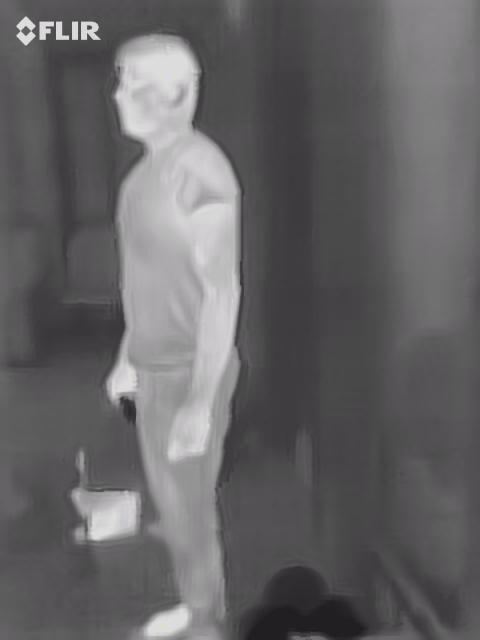head: (109, 32, 198, 140)
